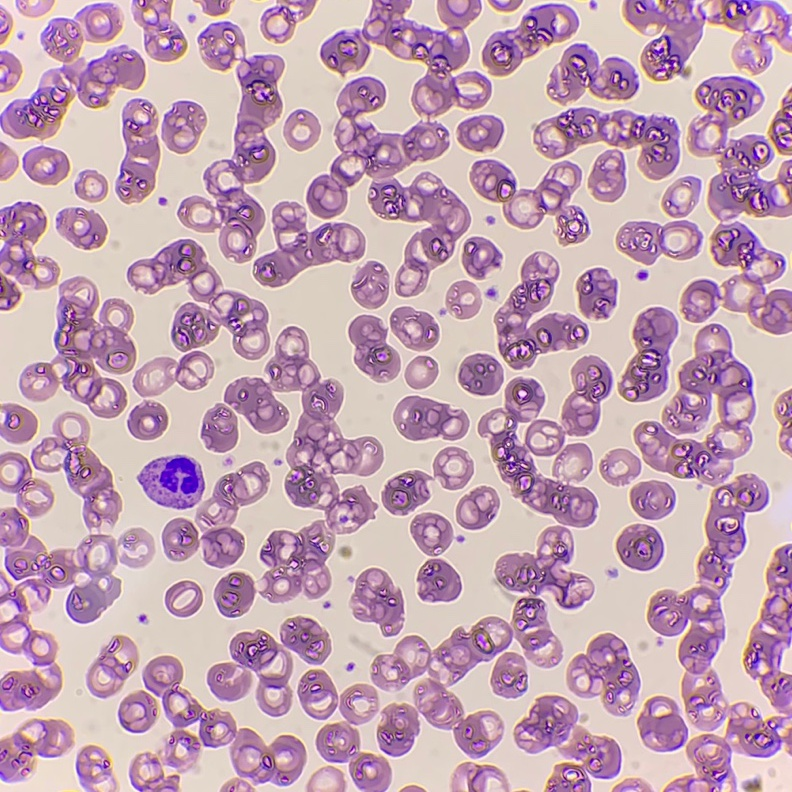RBC: (307, 77, 469, 295), (225, 327, 382, 525), (179, 55, 283, 261), (143, 656, 305, 783), (635, 324, 753, 484), (478, 379, 595, 526), (1, 18, 144, 138), (20, 277, 135, 417), (363, 0, 490, 113), (690, 77, 791, 216), (0, 508, 120, 622), (495, 252, 587, 368), (32, 412, 121, 526), (534, 108, 678, 178), (514, 696, 620, 791), (470, 160, 587, 243), (253, 202, 364, 286), (712, 223, 791, 333), (687, 703, 781, 789), (316, 684, 391, 791), (496, 527, 593, 607), (745, 548, 791, 712), (196, 462, 268, 566), (699, 476, 766, 587), (207, 631, 291, 715), (414, 680, 502, 755), (482, 5, 577, 74), (648, 587, 723, 674), (171, 294, 269, 359), (625, 0, 702, 80), (261, 521, 334, 601), (127, 239, 219, 302), (567, 634, 638, 714), (619, 308, 676, 401), (1, 202, 58, 287), (547, 46, 635, 101), (433, 617, 511, 679), (0, 719, 72, 780), (116, 99, 159, 201), (563, 357, 610, 435), (617, 221, 699, 263), (139, 455, 204, 507), (513, 597, 561, 666), (0, 453, 52, 516), (354, 569, 403, 635), (349, 315, 399, 379), (133, 352, 207, 395), (394, 396, 468, 439), (134, 0, 186, 60), (87, 636, 137, 697), (372, 636, 431, 687), (0, 613, 55, 664), (0, 666, 61, 710), (638, 697, 686, 750), (682, 677, 728, 730), (281, 617, 330, 662), (162, 101, 205, 152), (377, 705, 418, 755), (617, 524, 662, 569), (199, 25, 245, 69), (390, 307, 438, 349), (588, 150, 625, 201), (382, 472, 428, 513), (59, 208, 106, 248), (298, 670, 337, 718), (577, 268, 615, 317), (129, 753, 178, 791), (456, 487, 498, 529), (411, 513, 452, 555), (418, 559, 460, 600), (459, 354, 502, 394), (214, 572, 253, 616), (321, 35, 368, 71), (352, 262, 388, 308), (631, 481, 674, 519), (24, 147, 68, 184), (202, 405, 237, 451), (434, 447, 472, 488), (492, 652, 526, 697), (459, 115, 502, 150), (119, 692, 156, 732), (462, 237, 498, 278), (682, 280, 717, 321), (162, 519, 197, 560), (129, 402, 167, 439), (0, 404, 36, 443), (81, 6, 120, 41), (284, 110, 319, 149), (663, 177, 698, 216), (77, 746, 111, 785), (600, 449, 640, 482), (714, 0, 757, 30), (166, 581, 201, 616), (446, 281, 476, 318), (262, 8, 294, 42), (75, 170, 107, 201), (406, 356, 437, 387), (770, 100, 791, 140), (0, 54, 21, 89), (460, 765, 484, 791), (0, 143, 17, 179), (0, 276, 19, 304), (779, 391, 791, 435), (121, 528, 147, 547), (202, 0, 228, 14), (773, 19, 788, 39), (567, 444, 588, 456), (743, 779, 761, 791), (299, 0, 314, 12), (222, 780, 238, 791), (677, 778, 690, 791), (354, 608, 366, 619), (11, 591, 21, 601), (509, 0, 520, 7), (405, 786, 420, 791), (786, 735, 791, 746), (0, 31, 5, 40), (44, 0, 52, 4)
